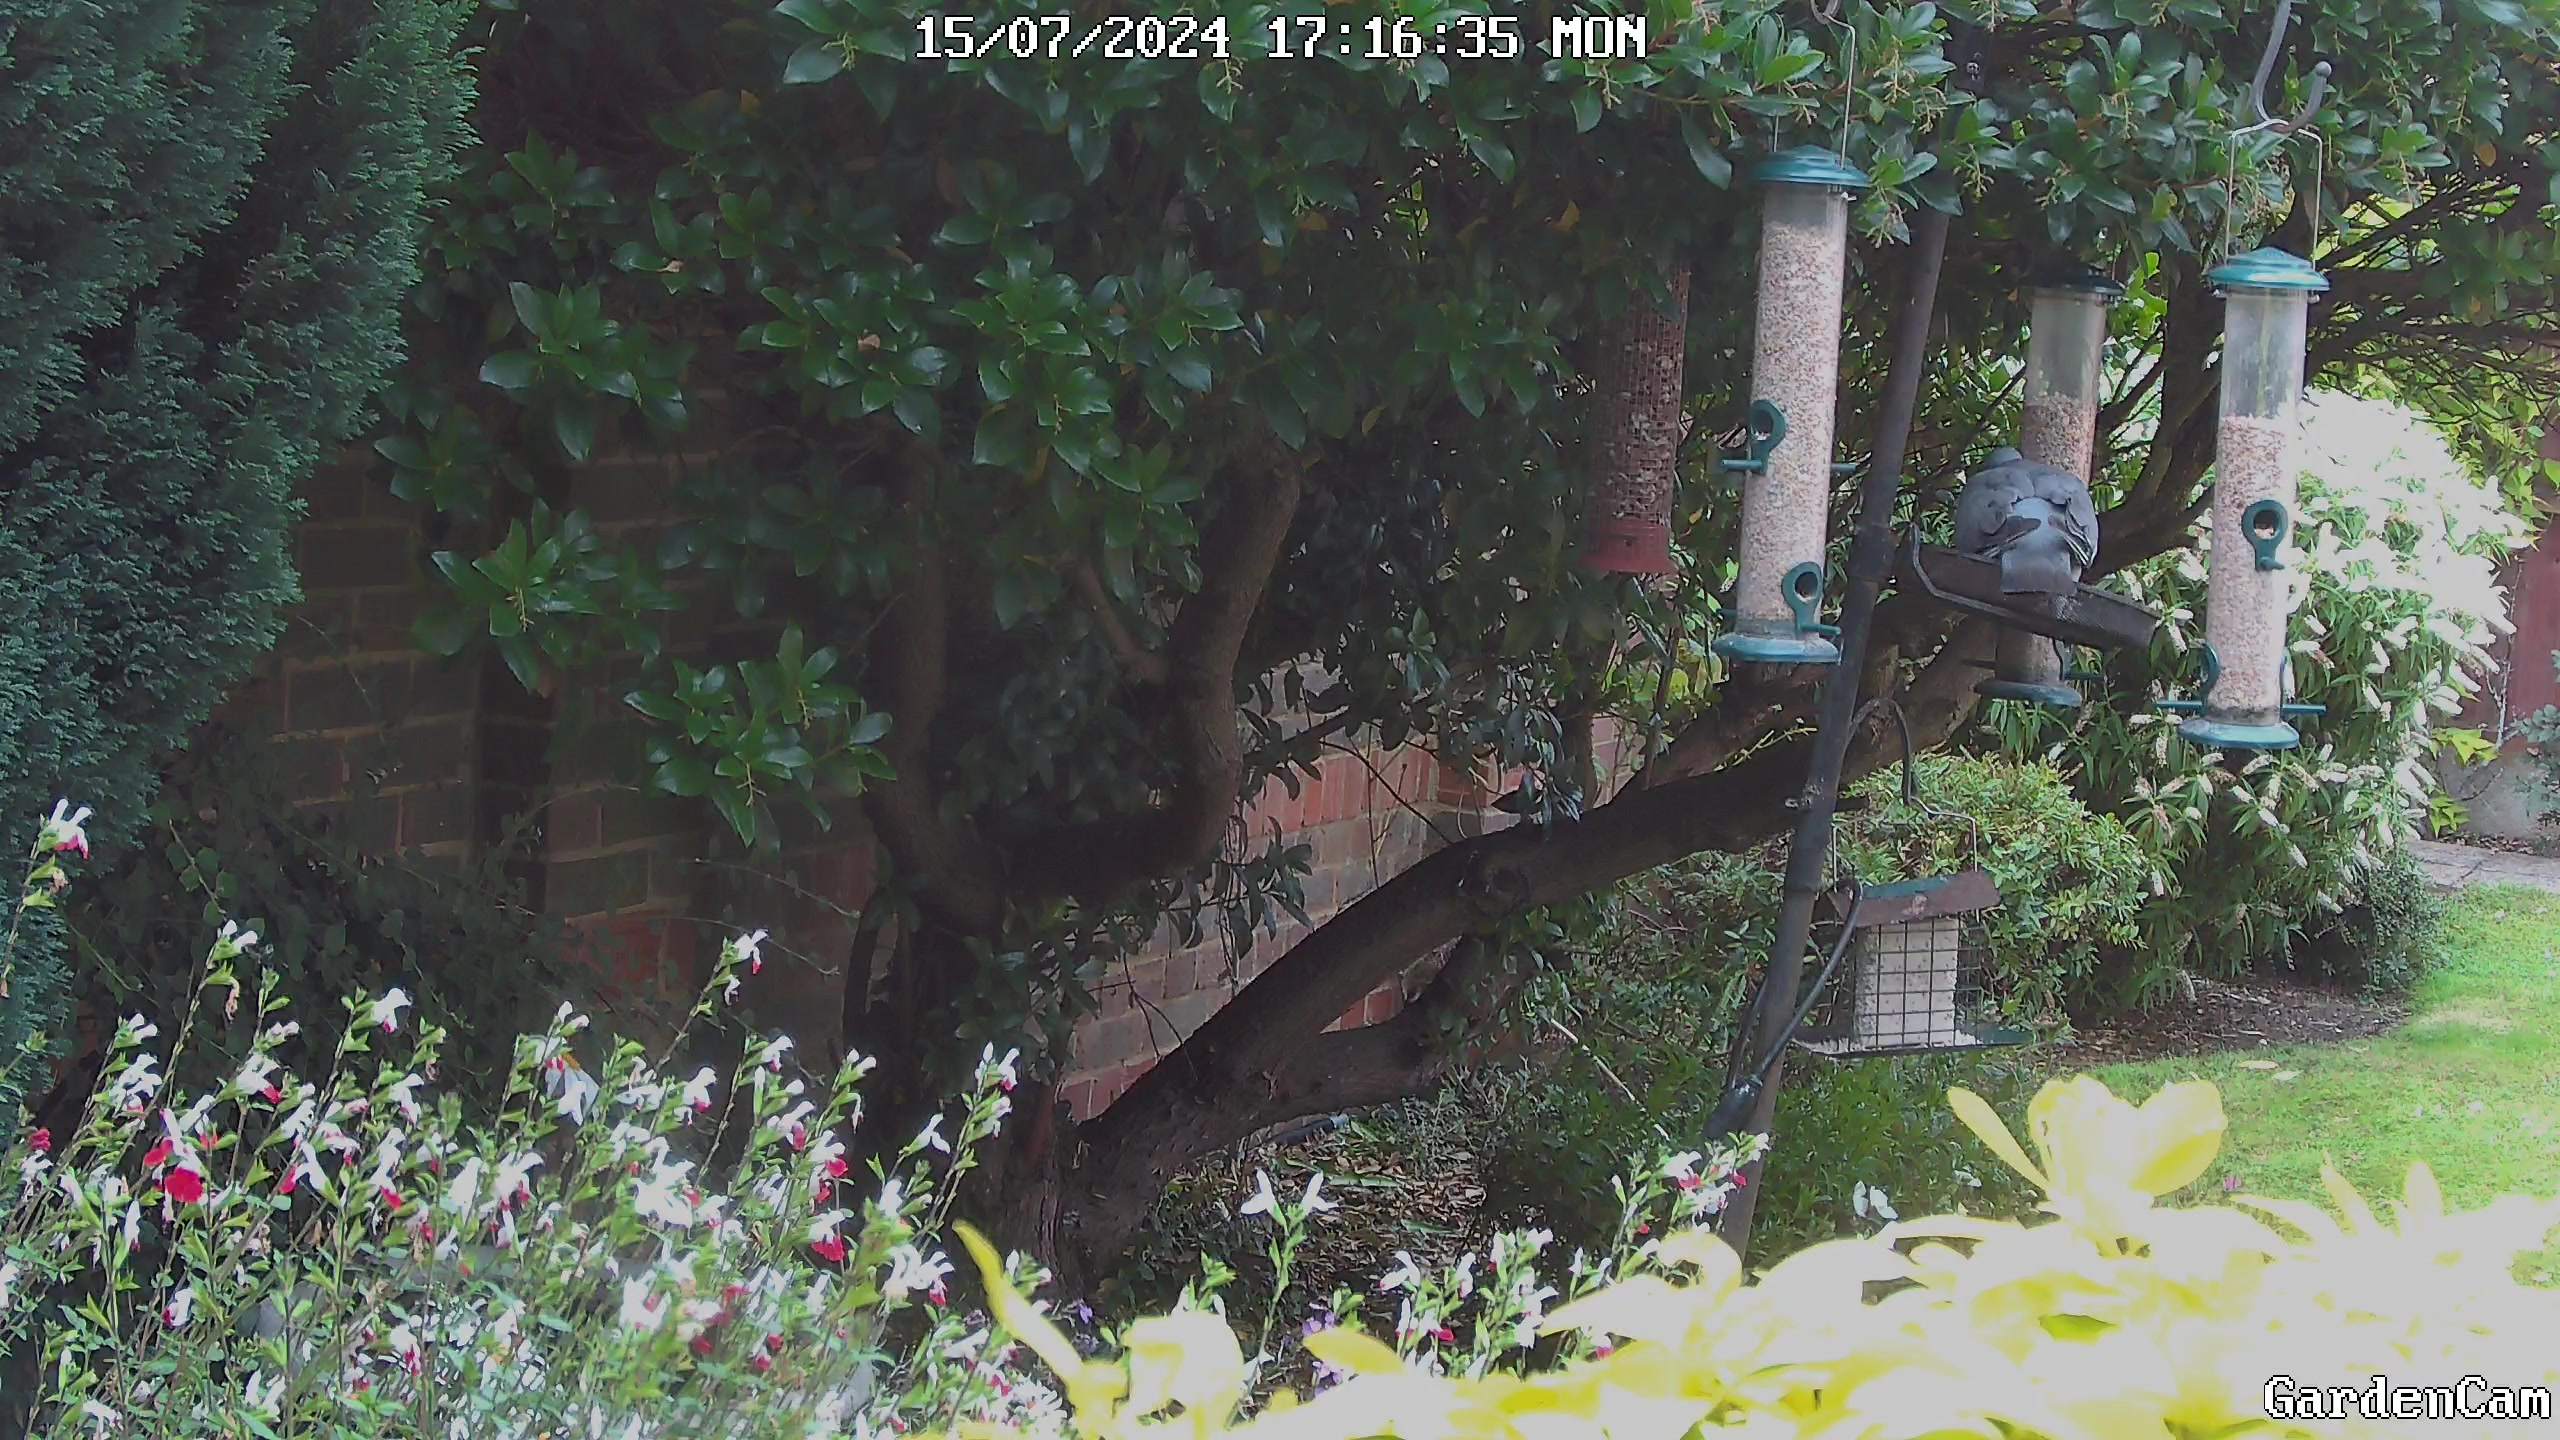Wood_Pigeon: (1922, 429, 2126, 610)
